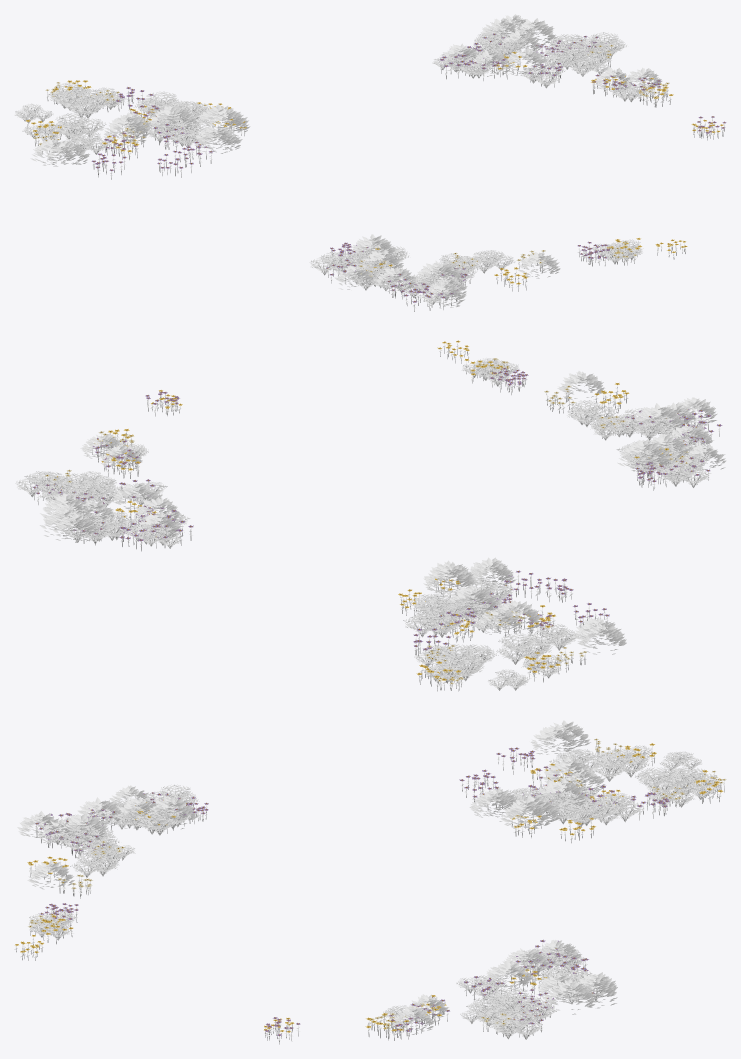
The model's file is SM_NW_Nature_3_0_Flora.fbx.
3 views of the same model, one above another, from view 1: azimuth 30°, elevation 25°; view 2: azimuth 150°, elevation 25°; view 3: azimuth 270°, elevation 25° (orthographic). The views are drawn at different scales.
Parts seen in each view (by area): view 1: SM_NW_Nature_3_0_Flora; view 2: SM_NW_Nature_3_0_Flora; view 3: SM_NW_Nature_3_0_Flora.
Boxes of the visible parts, box(x1,y1,x2,y2) form: SM_NW_Nature_3_0_Flora: box(15, 14, 726, 311); SM_NW_Nature_3_0_Flora: box(15, 340, 726, 691); SM_NW_Nature_3_0_Flora: box(14, 720, 726, 1044).
Size of the model in its own units: 2543 by 2518 by 160.
